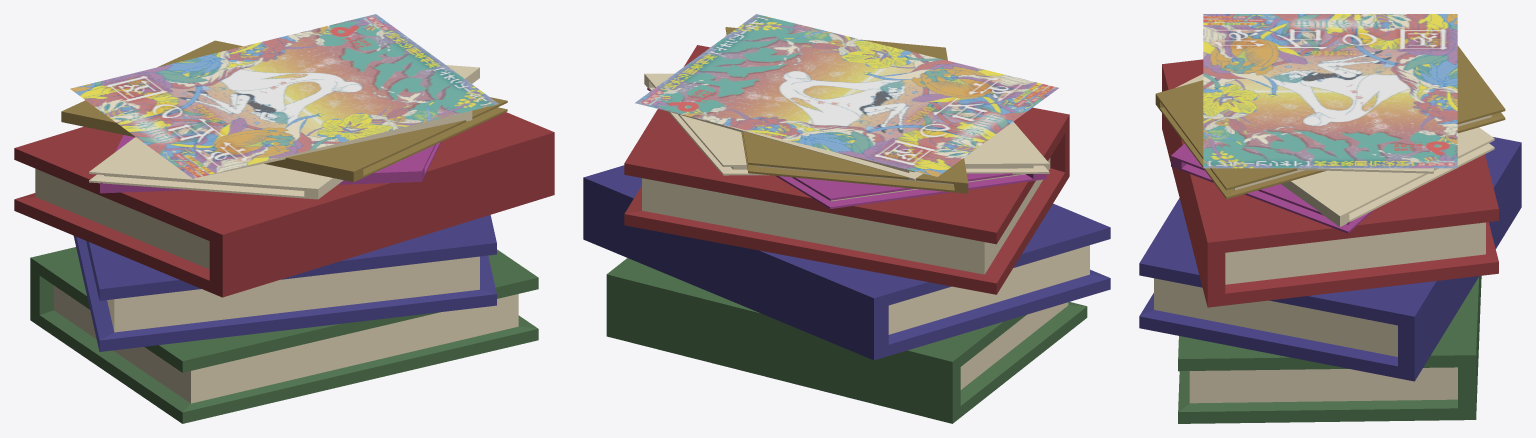
The model's file is PilaDeLibros.fbx.
3 views of the same model, side by side, from view 1: azimuth 30°, elevation 25°; view 2: azimuth 150°, elevation 25°; view 3: azimuth 270°, elevation 25° (orthographic). The views are drawn at different scales.
Parts seen in each view (by area): view 1: Cube.003, HNK, Cube.001, Cube.002, Cube.006, Cube.005, Cube.004, Pila de Libros; view 2: Cube.003, HNK, Cube.002, Cube.001, Cube.006, Cube.005, Cube.004, Pila de Libros; view 3: HNK, Cube.003, Cube.002, Cube.001, Cube.006, Cube.005, Cube.004, Pila de Libros.
Part boxes in pixels (x1,y1,x2,y2): Cube.003: (14, 112, 554, 297); HNK: (70, 14, 498, 178); Cube.001: (30, 247, 538, 423); Cube.002: (73, 215, 496, 351); Cube.006: (61, 40, 507, 182); Cube.005: (89, 65, 479, 199); Cube.004: (100, 135, 441, 193); Pila de Libros: (201, 110, 472, 176); Cube.003: (624, 45, 1069, 294); HNK: (635, 14, 1058, 176); Cube.002: (583, 165, 1110, 360); Cube.001: (606, 258, 1087, 423); Cube.006: (725, 27, 968, 193); Cube.005: (644, 73, 1049, 175); Cube.004: (647, 88, 1046, 208); Pila de Libros: (664, 110, 922, 180); HNK: (1203, 14, 1457, 168); Cube.003: (1162, 59, 1498, 307); Cube.002: (1139, 137, 1521, 381); Cube.001: (1178, 275, 1481, 423); Cube.006: (1155, 45, 1505, 199); Cube.005: (1175, 74, 1494, 226); Cube.004: (1171, 143, 1373, 233); Pila de Libros: (1297, 168, 1434, 173).
Size of the model in its own units: 362 by 179 by 257.
